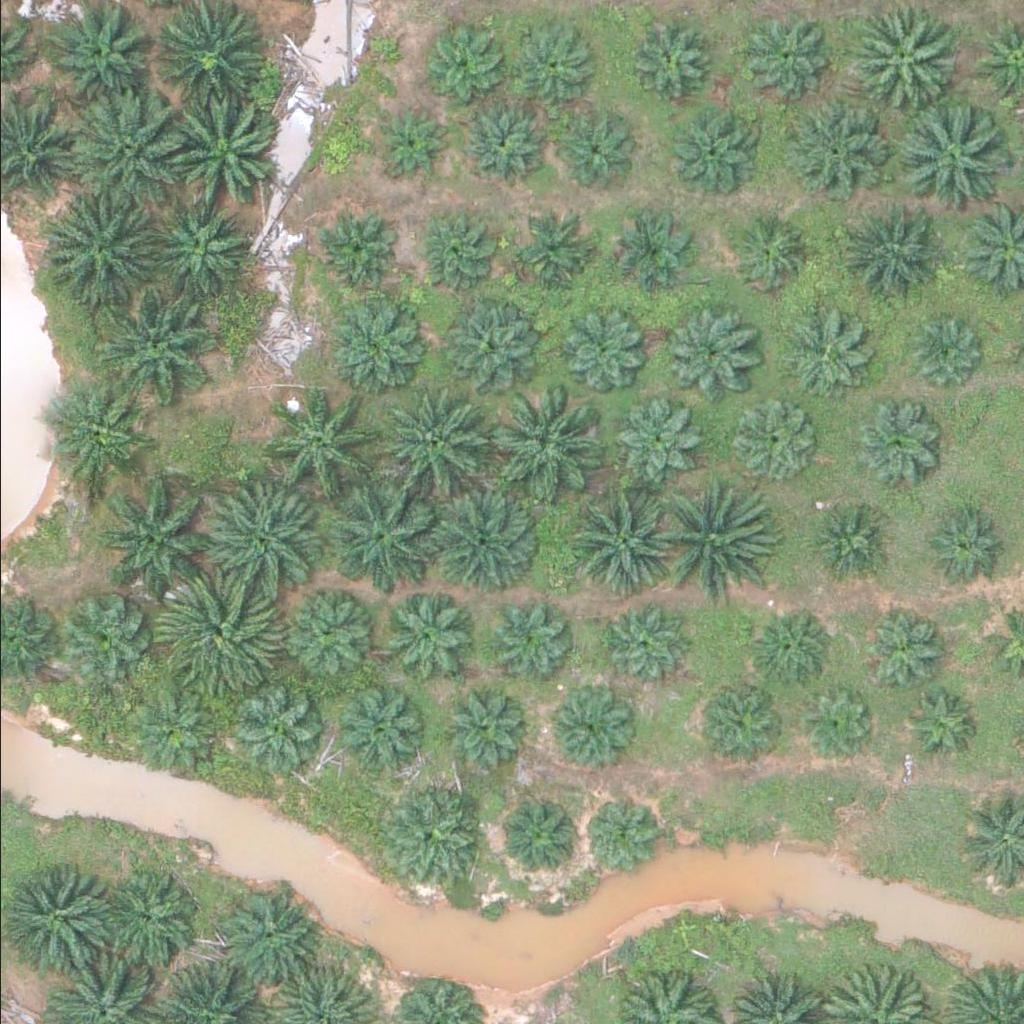Kelapa_Sawit: (42, 189, 156, 302), (427, 478, 541, 591), (164, 577, 277, 690), (651, 485, 764, 598), (330, 482, 443, 595), (826, 190, 939, 303), (889, 99, 1002, 212), (202, 489, 316, 601), (101, 478, 214, 590), (101, 289, 214, 401), (68, 97, 181, 209), (558, 483, 671, 595), (264, 390, 377, 502), (373, 390, 486, 502), (485, 386, 598, 498), (164, 96, 277, 208), (96, 867, 197, 967), (384, 786, 485, 886), (323, 678, 424, 778), (430, 295, 531, 395), (784, 96, 885, 196), (149, 196, 250, 296), (216, 886, 317, 986), (41, 385, 141, 485), (278, 588, 378, 688), (374, 592, 474, 692), (325, 294, 425, 394), (859, 605, 948, 693), (67, 592, 155, 680), (916, 503, 1004, 591), (800, 491, 888, 579), (693, 675, 781, 763), (132, 689, 220, 777), (483, 598, 571, 686), (657, 307, 745, 395), (556, 307, 644, 395), (626, 9, 714, 97), (671, 107, 759, 195), (308, 206, 396, 294), (725, 208, 813, 296), (724, 397, 812, 485), (745, 604, 833, 691), (597, 597, 685, 684), (540, 686, 628, 773), (494, 793, 582, 880), (224, 687, 312, 774), (445, 682, 533, 769), (422, 24, 510, 111), (507, 20, 595, 107), (743, 11, 831, 98), (546, 105, 634, 192), (462, 106, 550, 193), (418, 204, 506, 291), (515, 212, 603, 299), (612, 204, 700, 291), (853, 399, 941, 486), (611, 396, 699, 483), (780, 310, 868, 397), (902, 314, 978, 389), (792, 687, 868, 762), (377, 107, 453, 182), (579, 796, 655, 871), (898, 690, 973, 765)
